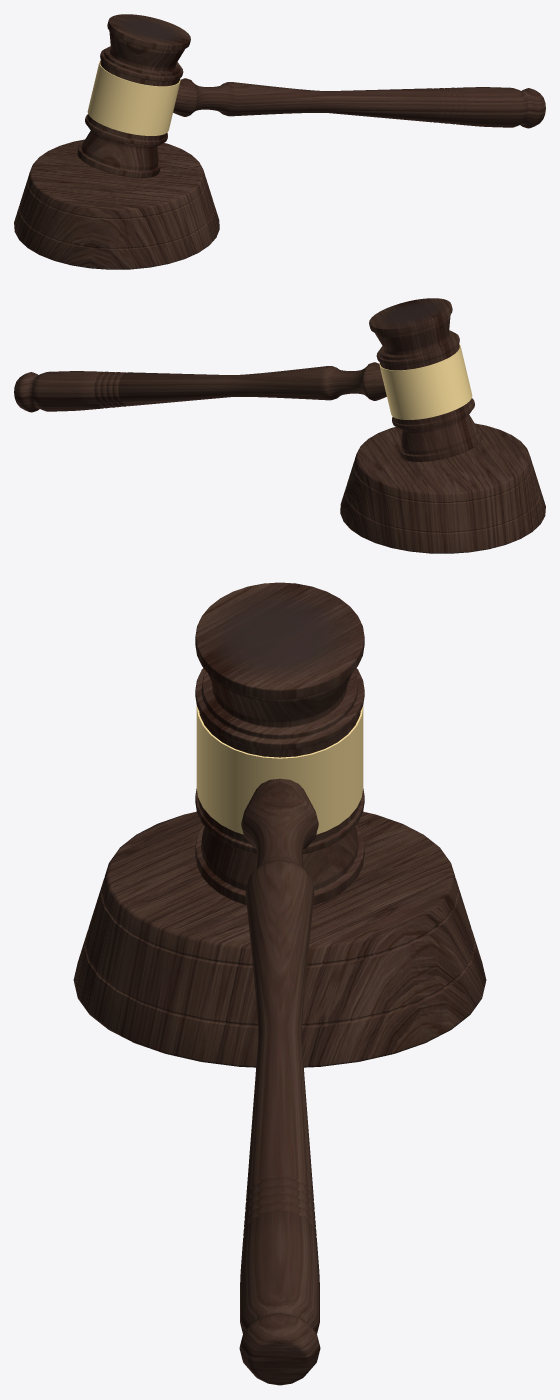
Rendered from gavel.glb.
The picture shows the model from 3 angles, top to bottom: view 1: azimuth 30°, elevation 25°; view 2: azimuth 150°, elevation 25°; view 3: azimuth 270°, elevation 25°; orthographic projection. The views are drawn at different scales.
Parts seen in each view (by area): view 1: Line001, Line004, Object001_Material _966_0, Line003; view 2: Line001, Line004, Object001_Material _966_0, Line003; view 3: Line001, Line004, Object001_Material _966_0, Line003.
Part boxes in pixels (<box>): Line001: <box>14,139,219,269</box>; Line004: <box>173,78,545,128</box>; Object001_Material _966_0: <box>77,14,190,177</box>; Line003: <box>87,60,180,135</box>; Line001: <box>340,423,545,553</box>; Line004: <box>14,362,386,412</box>; Object001_Material _966_0: <box>369,298,482,461</box>; Line003: <box>379,344,472,419</box>; Line001: <box>73,811,486,1067</box>; Line004: <box>239,778,320,1385</box>; Object001_Material _966_0: <box>195,582,364,905</box>; Line003: <box>196,706,363,834</box>.
Bounding box in the file's own units: 2.01 × 0.7435 × 0.6993.
Materials: 4 (4 with a texture image).
